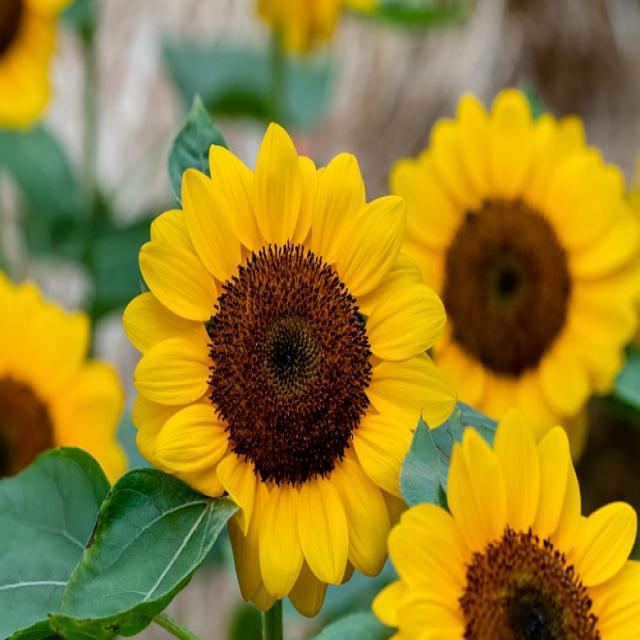sunflower: (119, 103, 468, 612), (385, 59, 638, 438), (342, 408, 640, 640)
